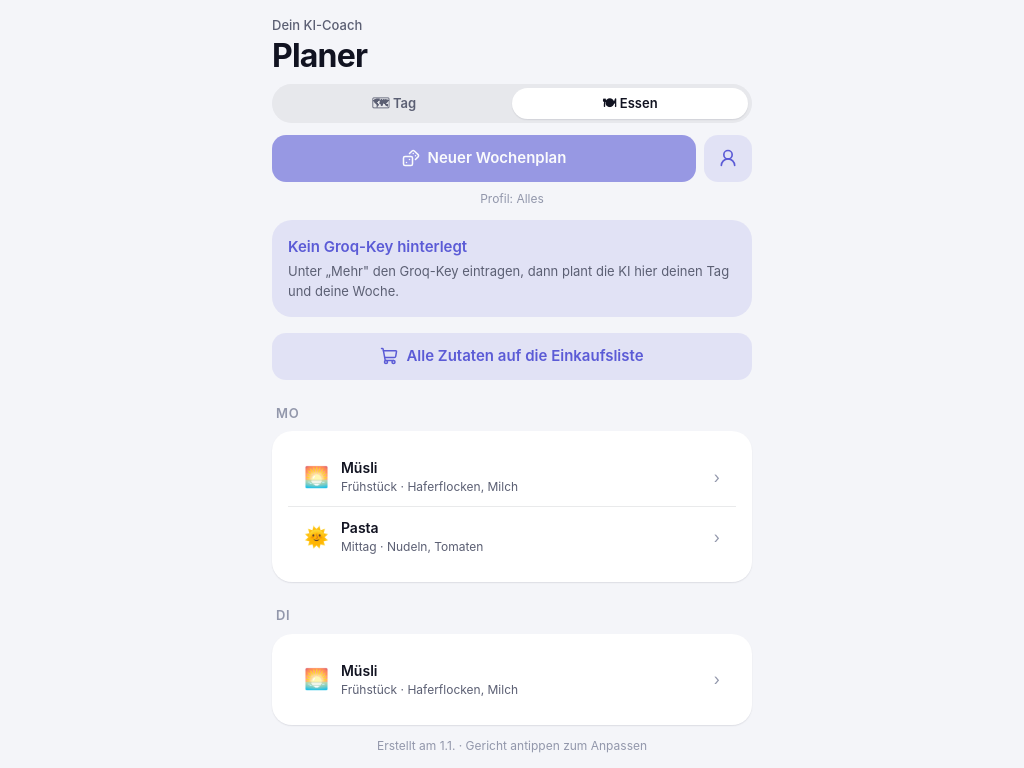
Test: Planer-Screen › zeigt den Wochenplan, setzt Zutaten dedupliziert auf die Liste und speichert ein bearbeitetes Gericht
Click the button "Alle Zutaten auf die Einkaufsliste".
click(512, 356)  # box [272,333,752,380]
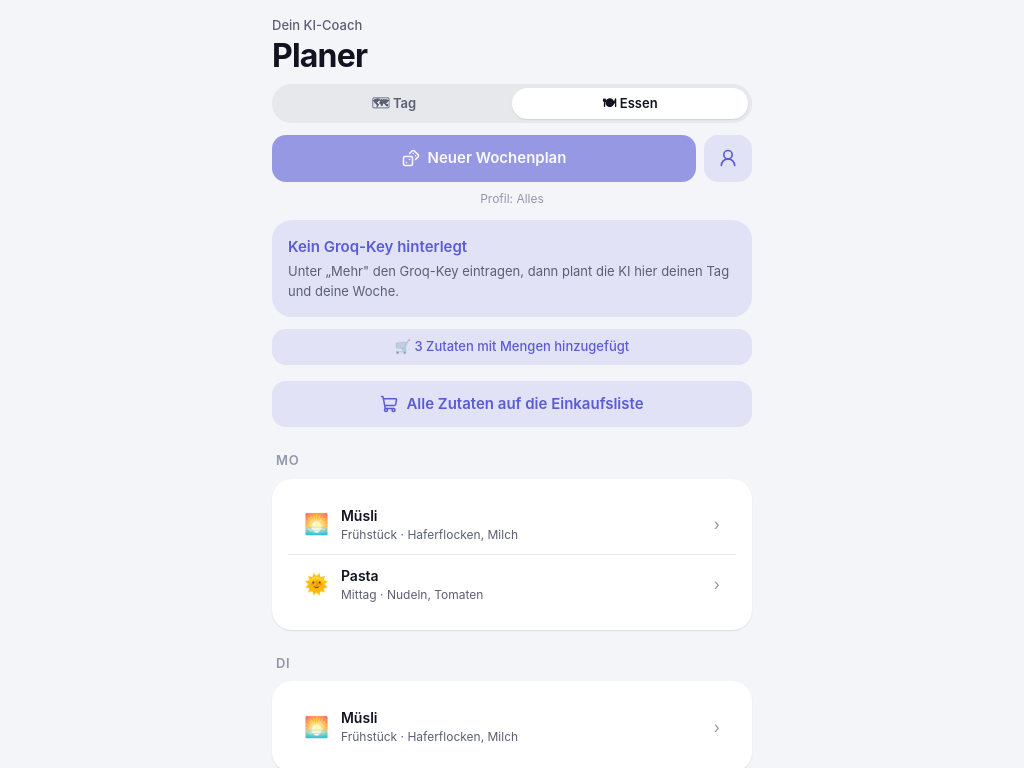
Click the button "🌞 Pasta Mittag · Nudeln, Tomaten ›".
click(360, 575)  # box [288,554,736,614]
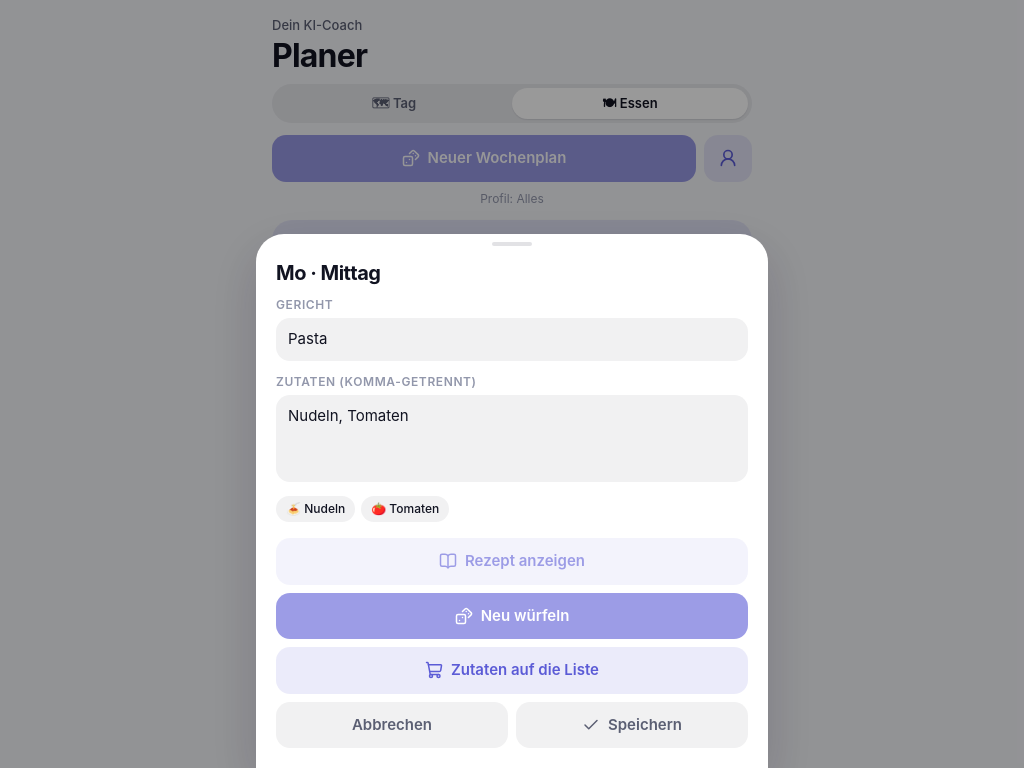
Expected: the dialog "Mo · Mittag" is shown
Replace the text in the field showing "Pasta" with "Pasta Arrabbiata" at x=512, y=339, box [276,318,748,360]
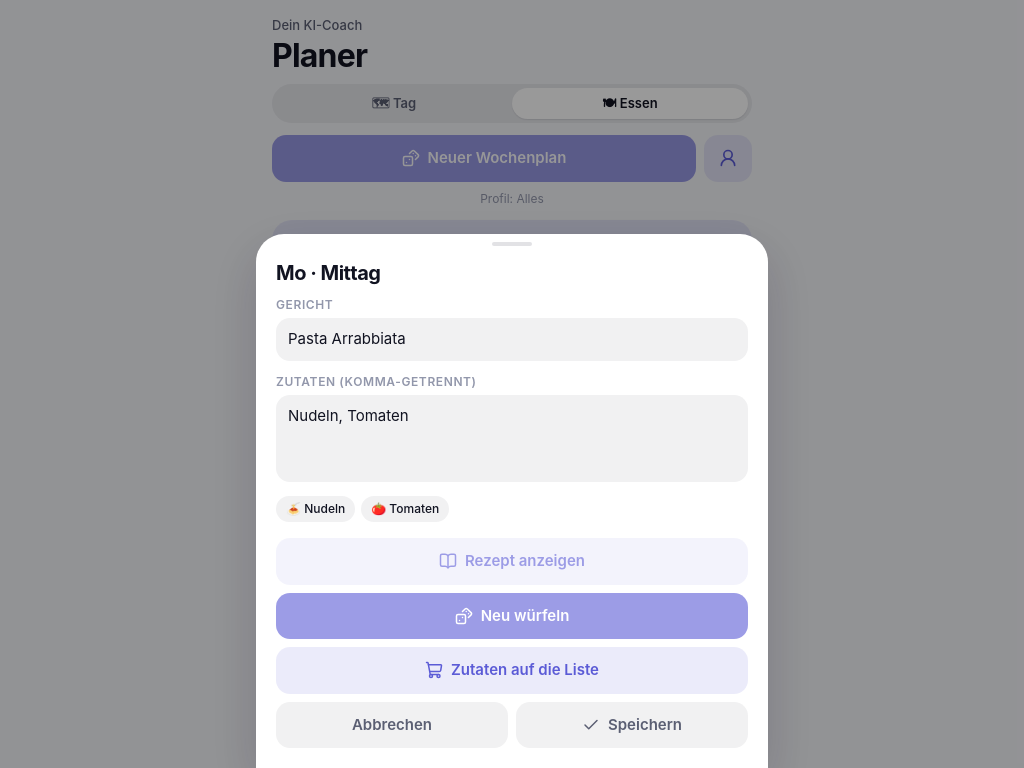
Replace the text in the text box showing "Nudeln, Tomaten" with "Nudeln, Tomaten, Chili" at x=512, y=438, box [276,394,748,482]
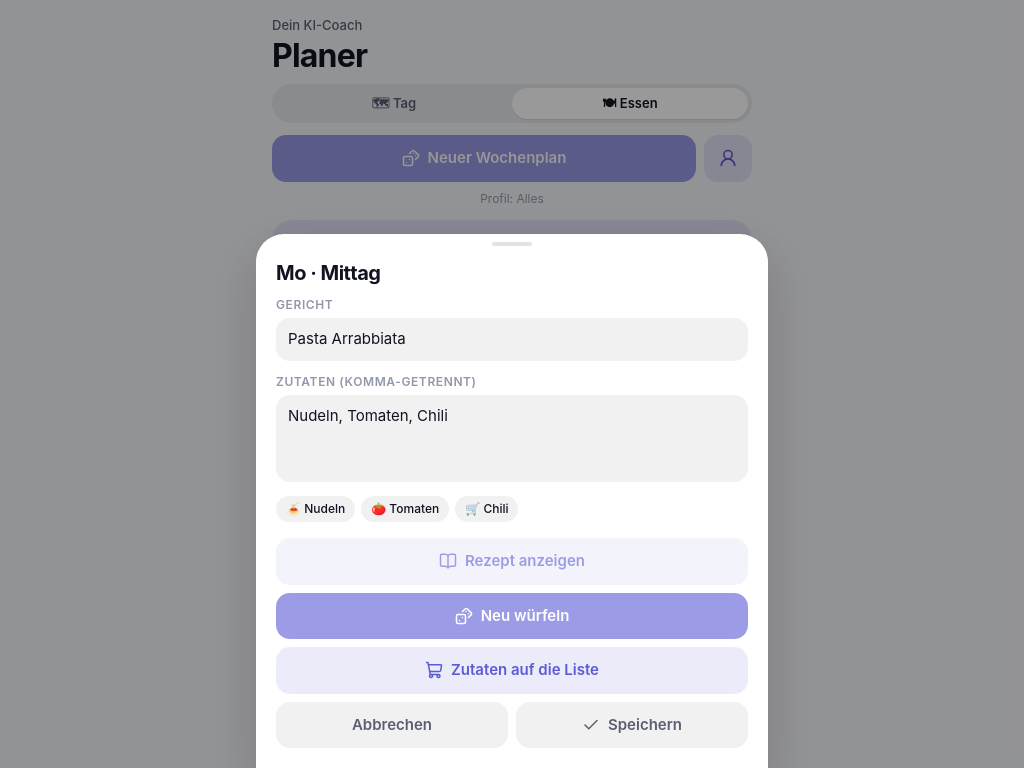
Click the button "Speichern".
click(632, 725)  # box [516,702,748,748]
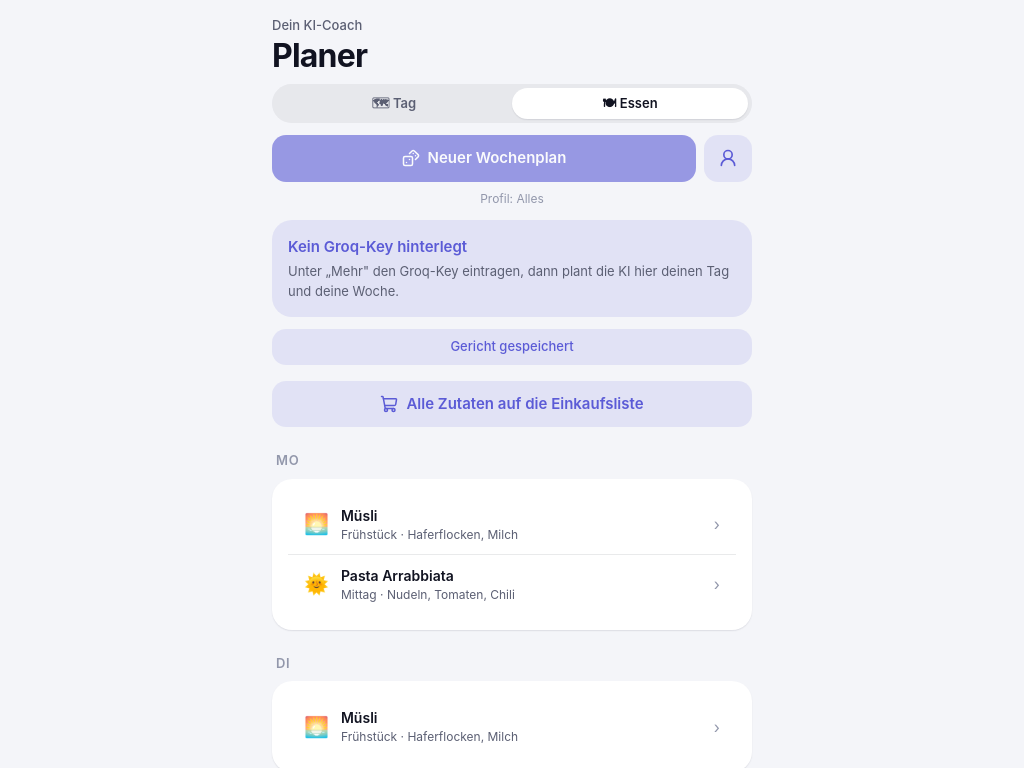
Expected: the text "Pasta Arrabbiata" is shown, [341,566,454,584]
